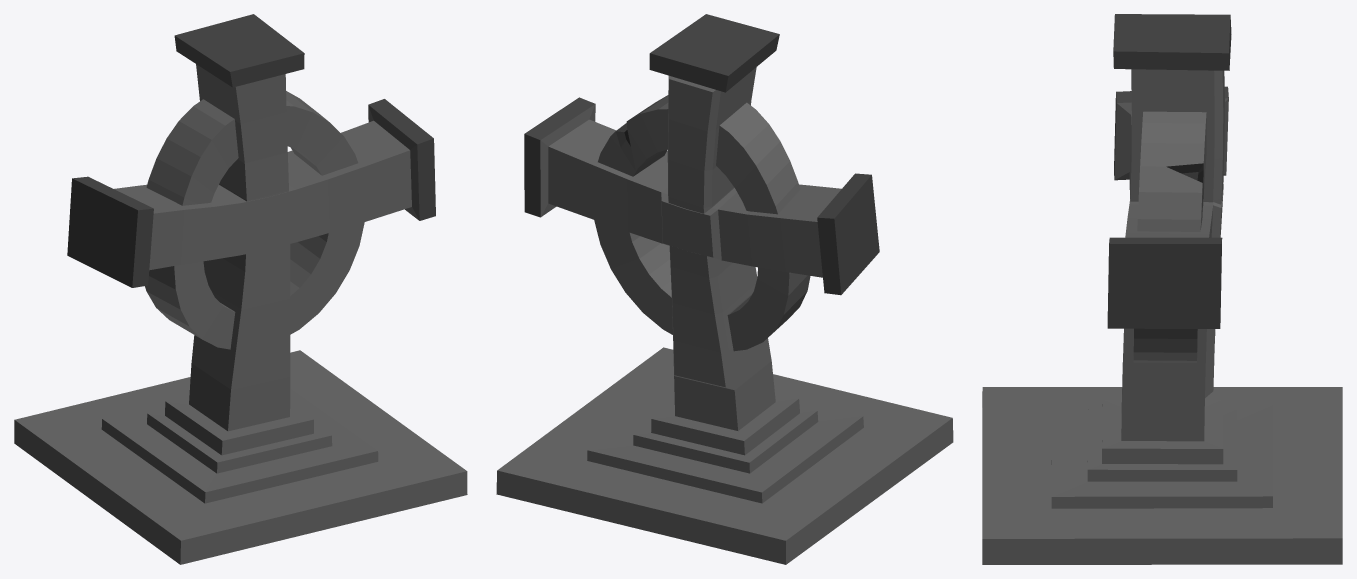
Rendered from Grave_3.fbx.
3 views of the same model, side by side, from view 1: azimuth 30°, elevation 25°; view 2: azimuth 150°, elevation 25°; view 3: azimuth 270°, elevation 25° (orthographic). The views are drawn at different scales.
Parts seen in each view (by area): view 1: Grave_3; view 2: Grave_3; view 3: Grave_3.
Boxes of the visible parts, left/top/right/bottom form: Grave_3: left=14, top=14, right=467, bottom=564; Grave_3: left=496, top=14, right=953, bottom=564; Grave_3: left=982, top=14, right=1342, bottom=564.
Size of the model in its own units: 4.56 by 5.83 by 4.14.
